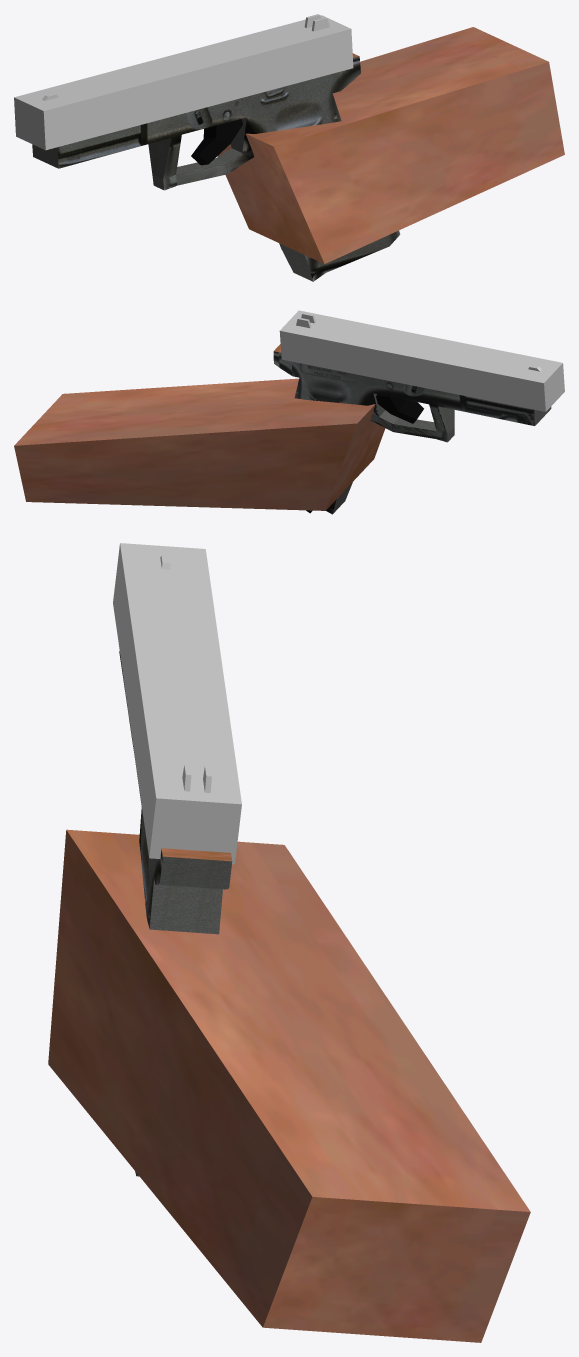
Rendered from pistol_000034.obj.
3 renders of one model, top to bottom at view 1: azimuth 30°, elevation 25°; view 2: azimuth 150°, elevation 25°; view 3: azimuth 270°, elevation 25°, orthographic. The views are drawn at different scales.
Visible parts, largest first — view 1: Cube, Cube.001, Cube.003; view 2: Cube, Cube.001, Cube.003; view 3: Cube, Cube.001.
Boxes of the visible parts, x1=… form: Cube: x1=32, y1=27, x2=564, y2=281; Cube.001: x1=14, y1=14, x2=353, y2=150; Cube.003: x1=191, y1=119, x2=242, y2=165; Cube: x1=14, y1=344, x2=551, y2=514; Cube.001: x1=279, y1=310, x2=564, y2=411; Cube.003: x1=376, y1=394, x2=423, y2=423; Cube: x1=48, y1=651, x2=530, y2=1342; Cube.001: x1=113, y1=543, x2=241, y2=864.
Size of the model in its own units: 1.74 by 0.7178 by 0.8013.
